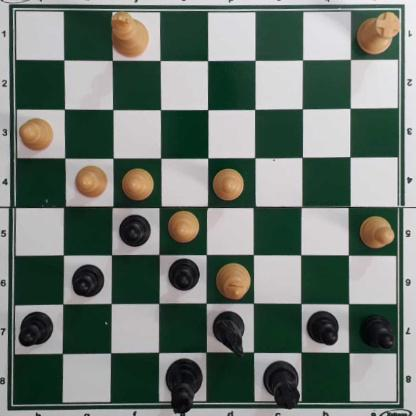black-king: (166, 359, 205, 415)
black-knight: (214, 313, 249, 358)
black-pawn: (360, 316, 399, 354), (18, 312, 55, 349), (169, 259, 203, 295), (307, 311, 340, 347), (72, 266, 105, 301), (119, 215, 151, 250)
black-rook: (263, 361, 303, 411)
white-bishop: (216, 262, 252, 303)
white-king: (112, 12, 151, 60)
white-pawn: (18, 117, 55, 154), (74, 165, 109, 201), (361, 216, 396, 250), (167, 211, 203, 244), (123, 168, 156, 203), (213, 170, 246, 202)
white-rook: (358, 13, 404, 55)
